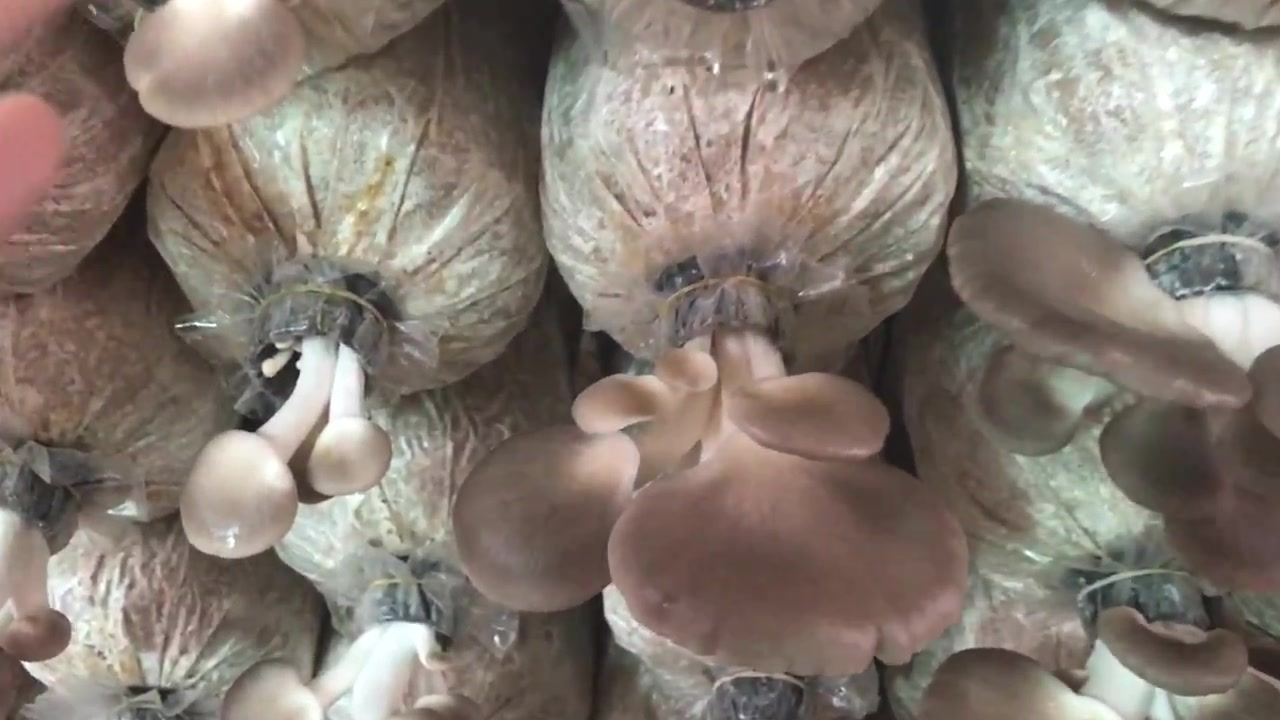nam: (453, 262, 967, 677), (950, 198, 1280, 586), (928, 543, 1280, 719), (181, 275, 395, 560), (228, 592, 474, 720), (122, 1, 306, 131), (1, 450, 71, 665)
